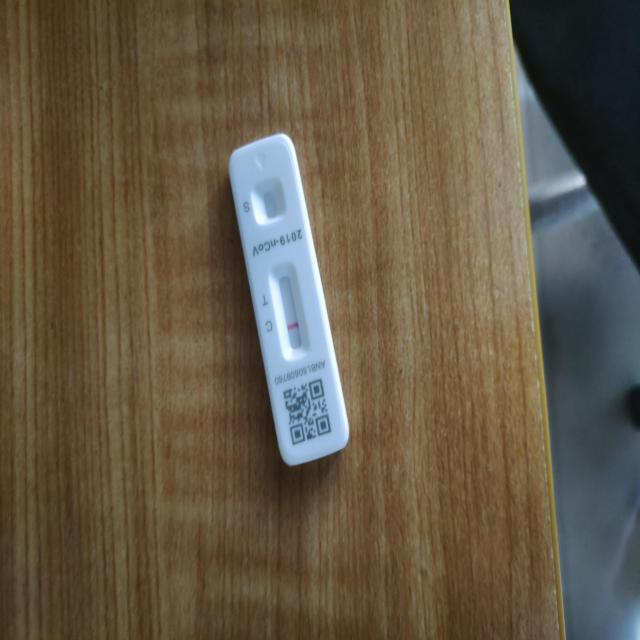qr_code: (281, 379, 333, 445)
